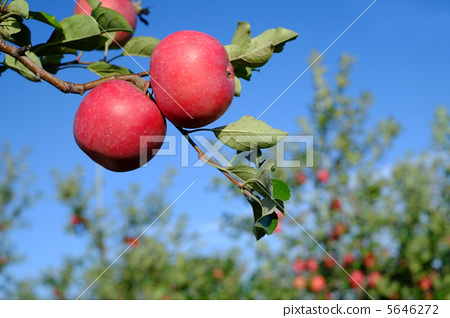apple: (73, 80, 166, 172), (151, 30, 232, 125)
